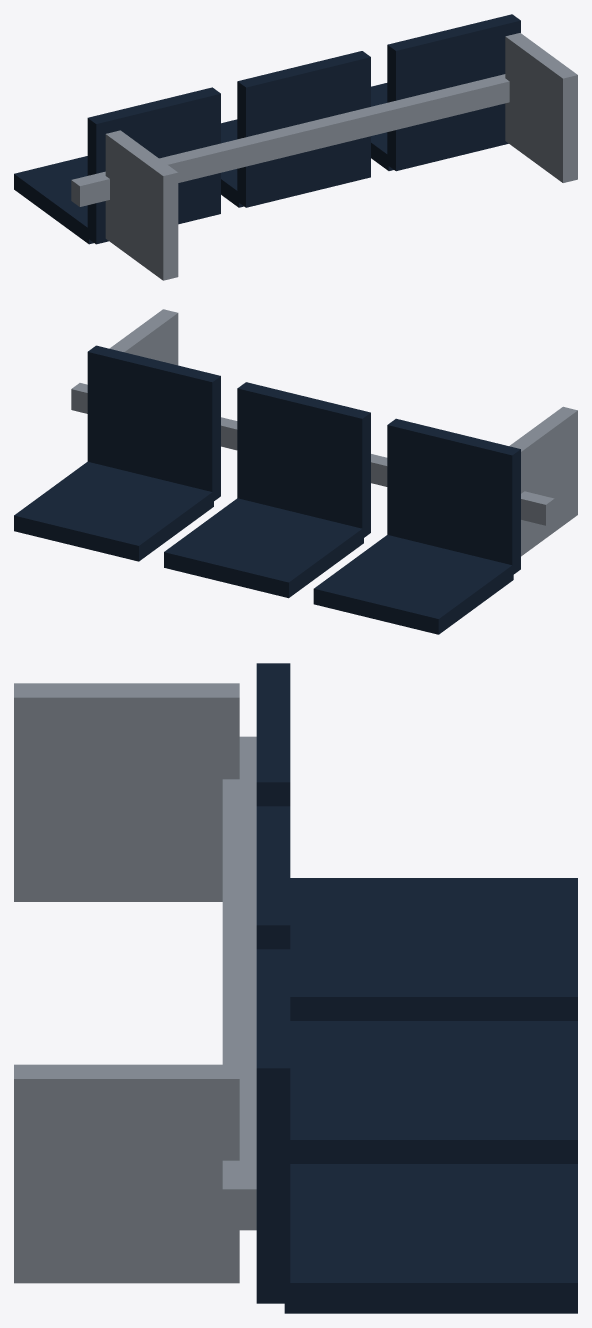
The model's file is airport_seats.obj.
The picture shows the model from 3 angles, top to bottom: view 1: azimuth 30°, elevation 25°; view 2: azimuth 150°, elevation 25°; view 3: azimuth 270°, elevation 25°; orthographic projection. The views are drawn at different scales.
Visible parts, largest first — view 1: Airport_Seats; view 2: Airport_Seats; view 3: Airport_Seats.
Part boxes in pixels (x1=…): Airport_Seats: x1=14, y1=14, x2=577, y2=280; Airport_Seats: x1=14, y1=309, x2=577, y2=634; Airport_Seats: x1=14, y1=663, x2=577, y2=1313.
Bounding box in the file's own units: 1.9 × 0.48 × 1.
